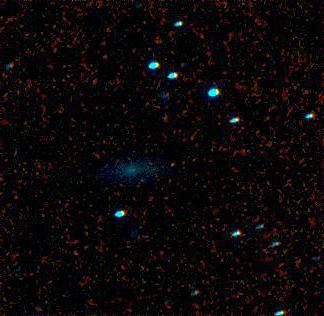star: (160, 148, 190, 178)
